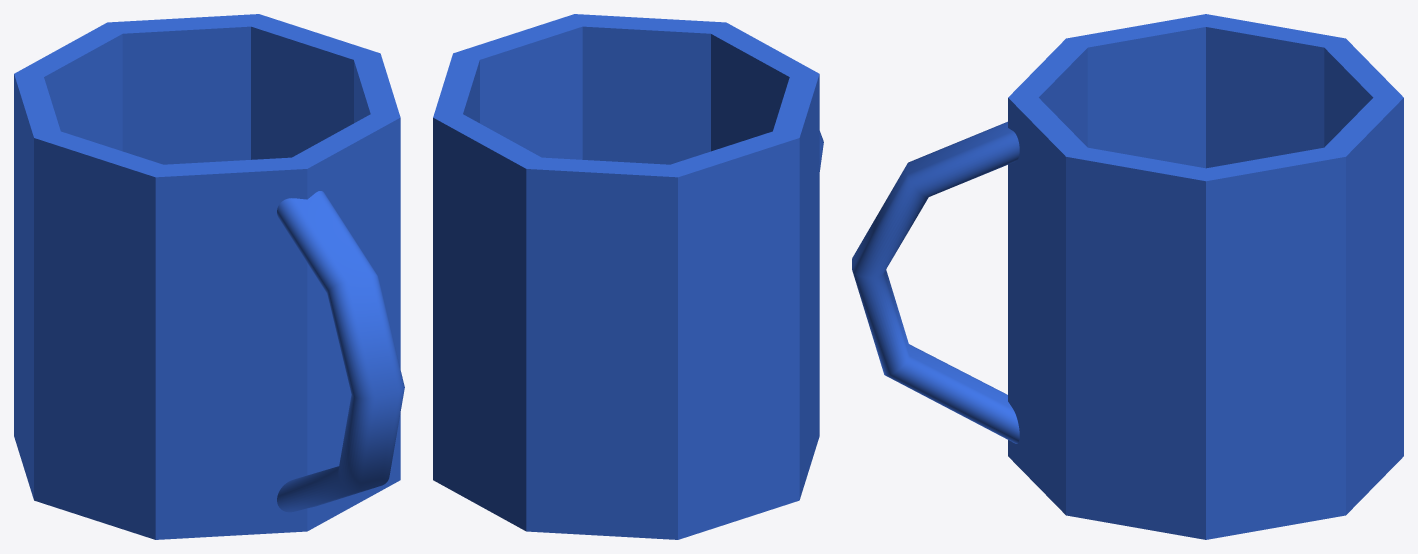
The model's file is Mug.fbx.
3 views of the same model, side by side, from view 1: azimuth 30°, elevation 25°; view 2: azimuth 150°, elevation 25°; view 3: azimuth 270°, elevation 25° (orthographic).
Visible parts, largest first — view 1: Mug; view 2: Mug; view 3: Mug.
Boxes of the visible parts, left/top/right/bottom form: Mug: left=14, top=14, right=404, bottom=539; Mug: left=433, top=14, right=823, bottom=539; Mug: left=852, top=14, right=1403, bottom=539.
Bounding box in the file's own units: 200 × 200 × 279.
